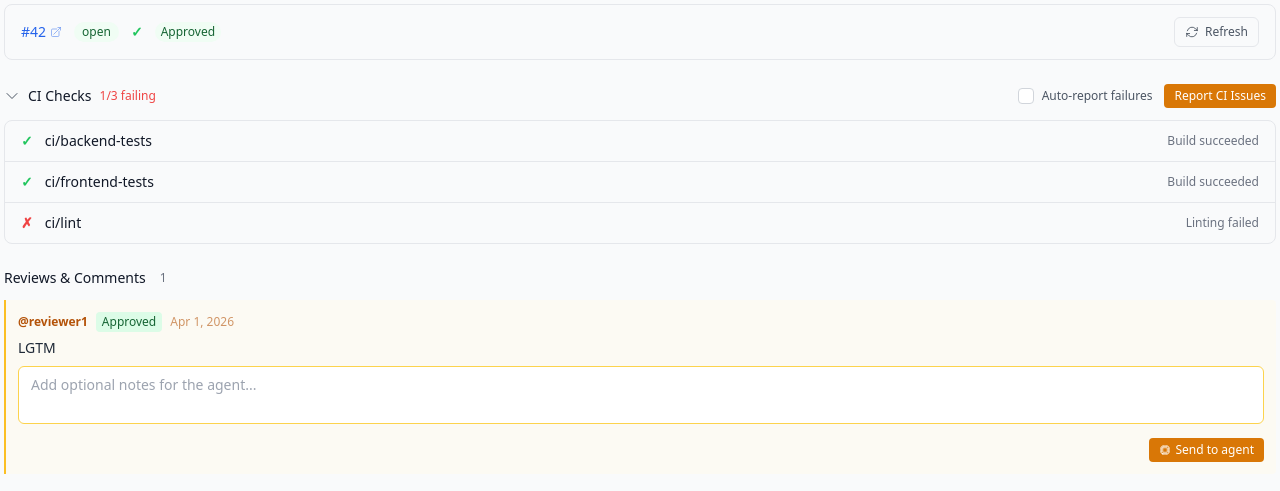
Test case: PullRequestTab › CI Checks Section › collapses CI checks when header is clicked
expect the text "ci/backend-tests" is shown: met, box [45, 131, 152, 150]
Click the text "CI Checks".
click(60, 96)  # box [28, 86, 92, 106]
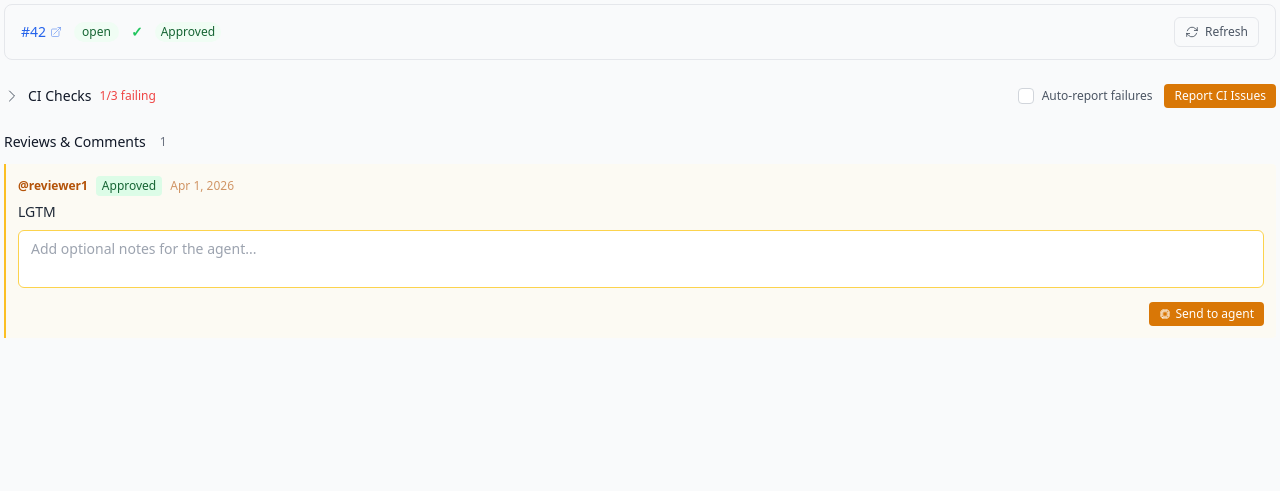
expect the text "ci/backend-tests" is gone: met
